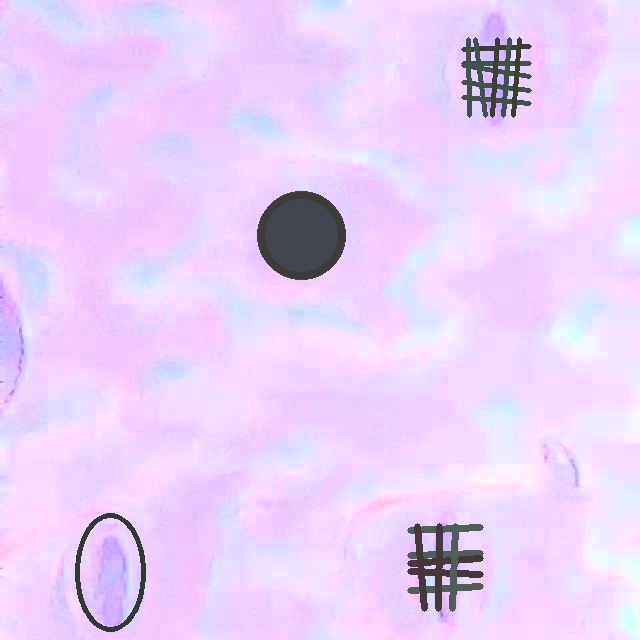open: (75, 513, 146, 632), (258, 192, 345, 278), (407, 524, 483, 611), (461, 37, 531, 117)
